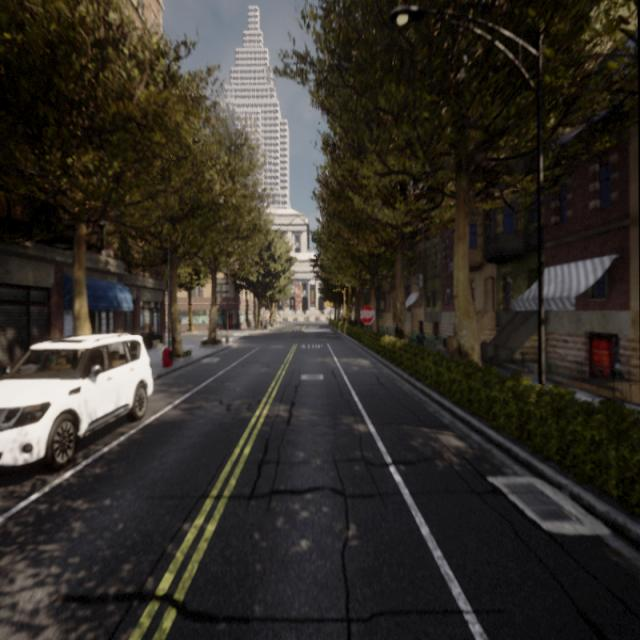stop sign: (357, 301, 376, 327)
